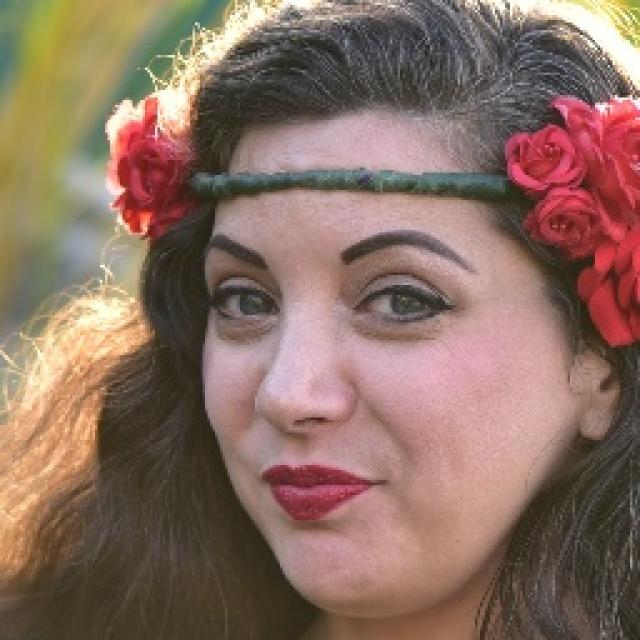earlobe: (577, 316, 640, 444)
